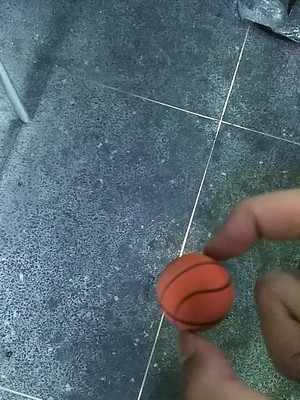ball: (155, 253, 235, 333)
